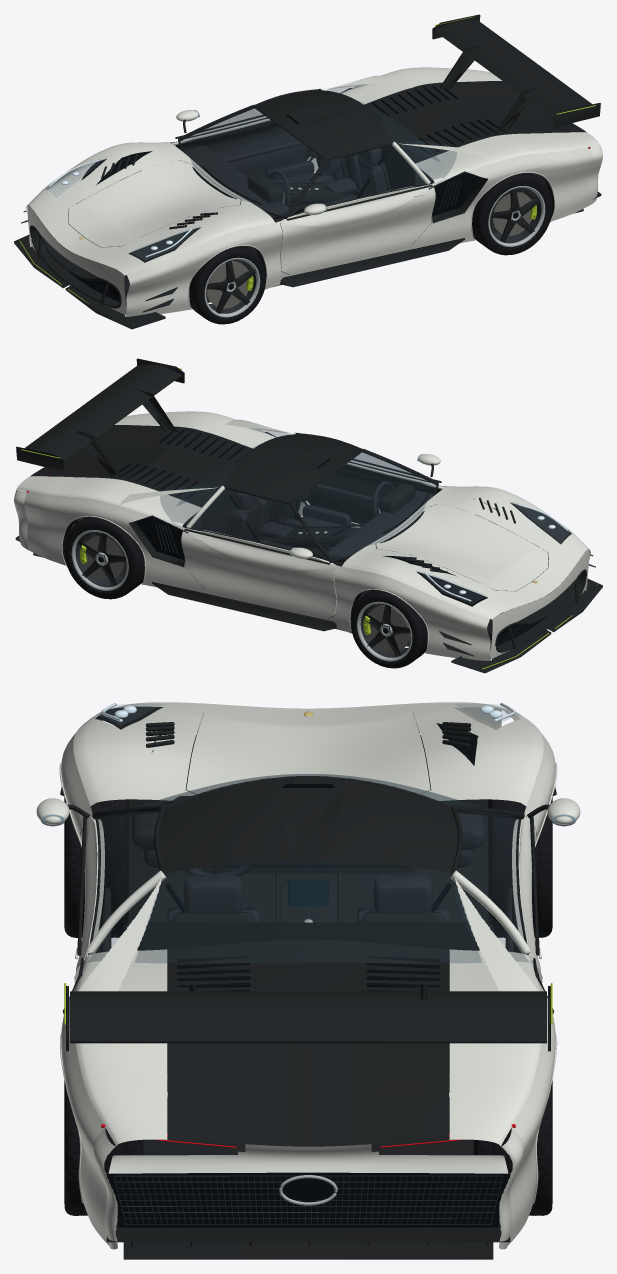
File: preview.glb
3 views of the same model, one above another, from view 1: azimuth 30°, elevation 25°; view 2: azimuth 150°, elevation 25°; view 3: azimuth 270°, elevation 25° (orthographic). The views are drawn at different scales.
Parts seen in each view (by area): view 1: paint_0, carbon_0, glass_0, leather_0, rubber_0, paint_1, black_0, brake_0, alloy_0, lamp_lens_0, dark_metal_0; view 2: paint_0, carbon_0, glass_0, paint_1, leather_0, rubber_0, black_0, brake_0, alloy_0, dark_metal_0, lamp_lens_0, carpet_0; view 3: carbon_0, paint_0, glass_0, black_0, paint_1, rubber_0, leather_0, dark_metal_0, interior_0, screen_0, lamp_lens_0.
Boxes of the visible parts, <box> form: paint_0: <box>26,67,599,316</box>; carbon_0: <box>14,14,601,329</box>; glass_0: <box>180,84,456,215</box>; leather_0: <box>180,133,387,219</box>; rubber_0: <box>68,85,554,324</box>; paint_1: <box>27,75,602,314</box>; black_0: <box>60,84,551,301</box>; brake_0: <box>206,192,531,308</box>; alloy_0: <box>204,186,545,317</box>; lamp_lens_0: <box>46,158,199,260</box>; dark_metal_0: <box>208,179,541,313</box>; paint_0: <box>17,411,590,660</box>; carbon_0: <box>15,358,602,673</box>; glass_0: <box>160,428,436,559</box>; paint_1: <box>14,419,589,658</box>; leather_0: <box>229,481,436,563</box>; rubber_0: <box>62,433,548,668</box>; black_0: <box>65,428,556,645</box>; brake_0: <box>85,536,410,652</box>; alloy_0: <box>71,507,412,661</box>; dark_metal_0: <box>75,523,408,657</box>; lamp_lens_0: <box>417,502,570,604</box>; carpet_0: <box>200,537,487,618</box>; carbon_0: <box>60,706,556,1259</box>; paint_0: <box>36,702,557,1245</box>; glass_0: <box>84,774,532,962</box>; black_0: <box>109,723,507,1227</box>; paint_1: <box>79,702,580,1249</box>; rubber_0: <box>64,714,552,1215</box>; leather_0: <box>100,805,520,953</box>; dark_metal_0: <box>113,1074,503,1224</box>; interior_0: <box>144,849,472,868</box>; screen_0: <box>288,879,328,906</box>; lamp_lens_0: <box>97,704,519,725</box>.
Bounding box in the file's own units: 4.63 × 1.21 × 2.24.
